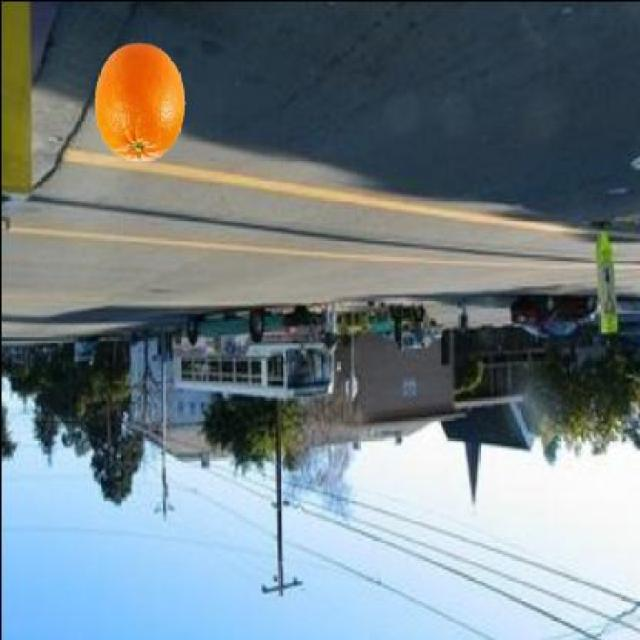Orange: (92, 40, 186, 162)
